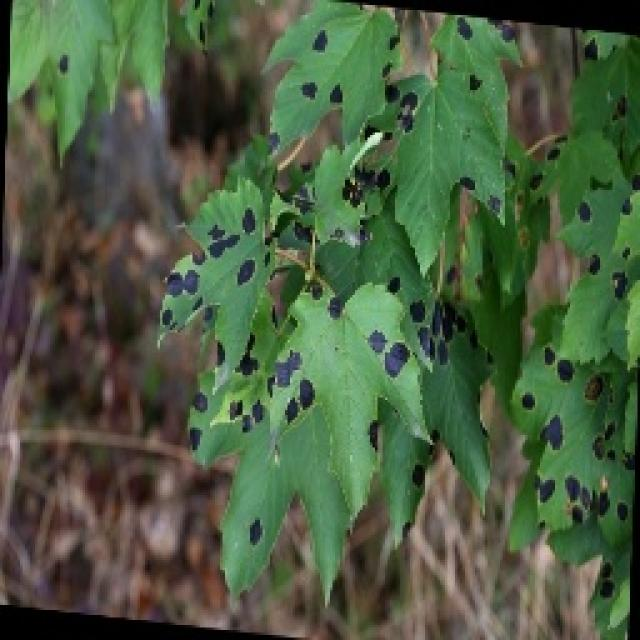Tar_Spot: (165, 208, 452, 437), (287, 27, 511, 163), (517, 351, 640, 568)
